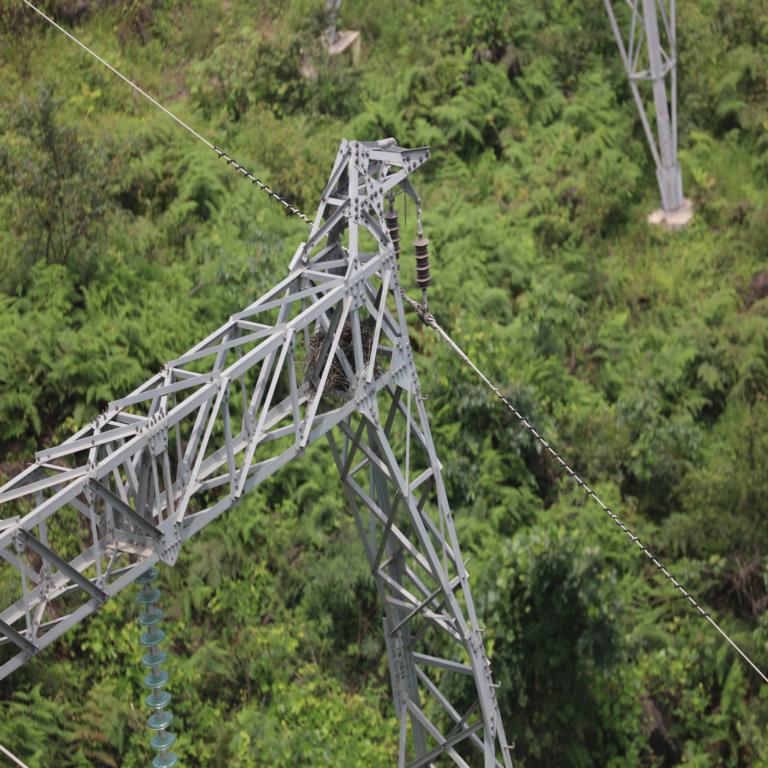nest: (307, 326, 373, 389)
